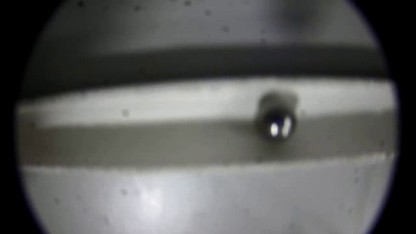gangzhu: (263, 102, 298, 141)
